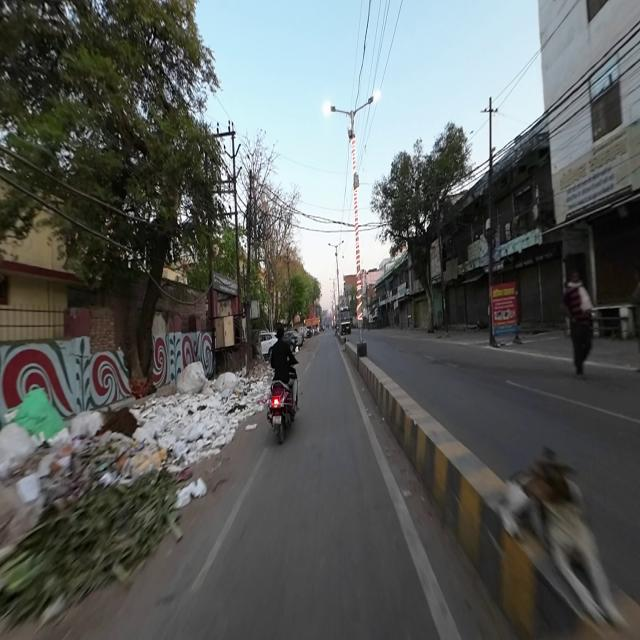Garbage: (0, 478, 114, 611), (69, 406, 161, 494), (120, 476, 181, 557), (142, 396, 227, 449), (1, 398, 65, 468), (177, 364, 219, 399), (221, 371, 260, 408), (175, 477, 207, 510)
